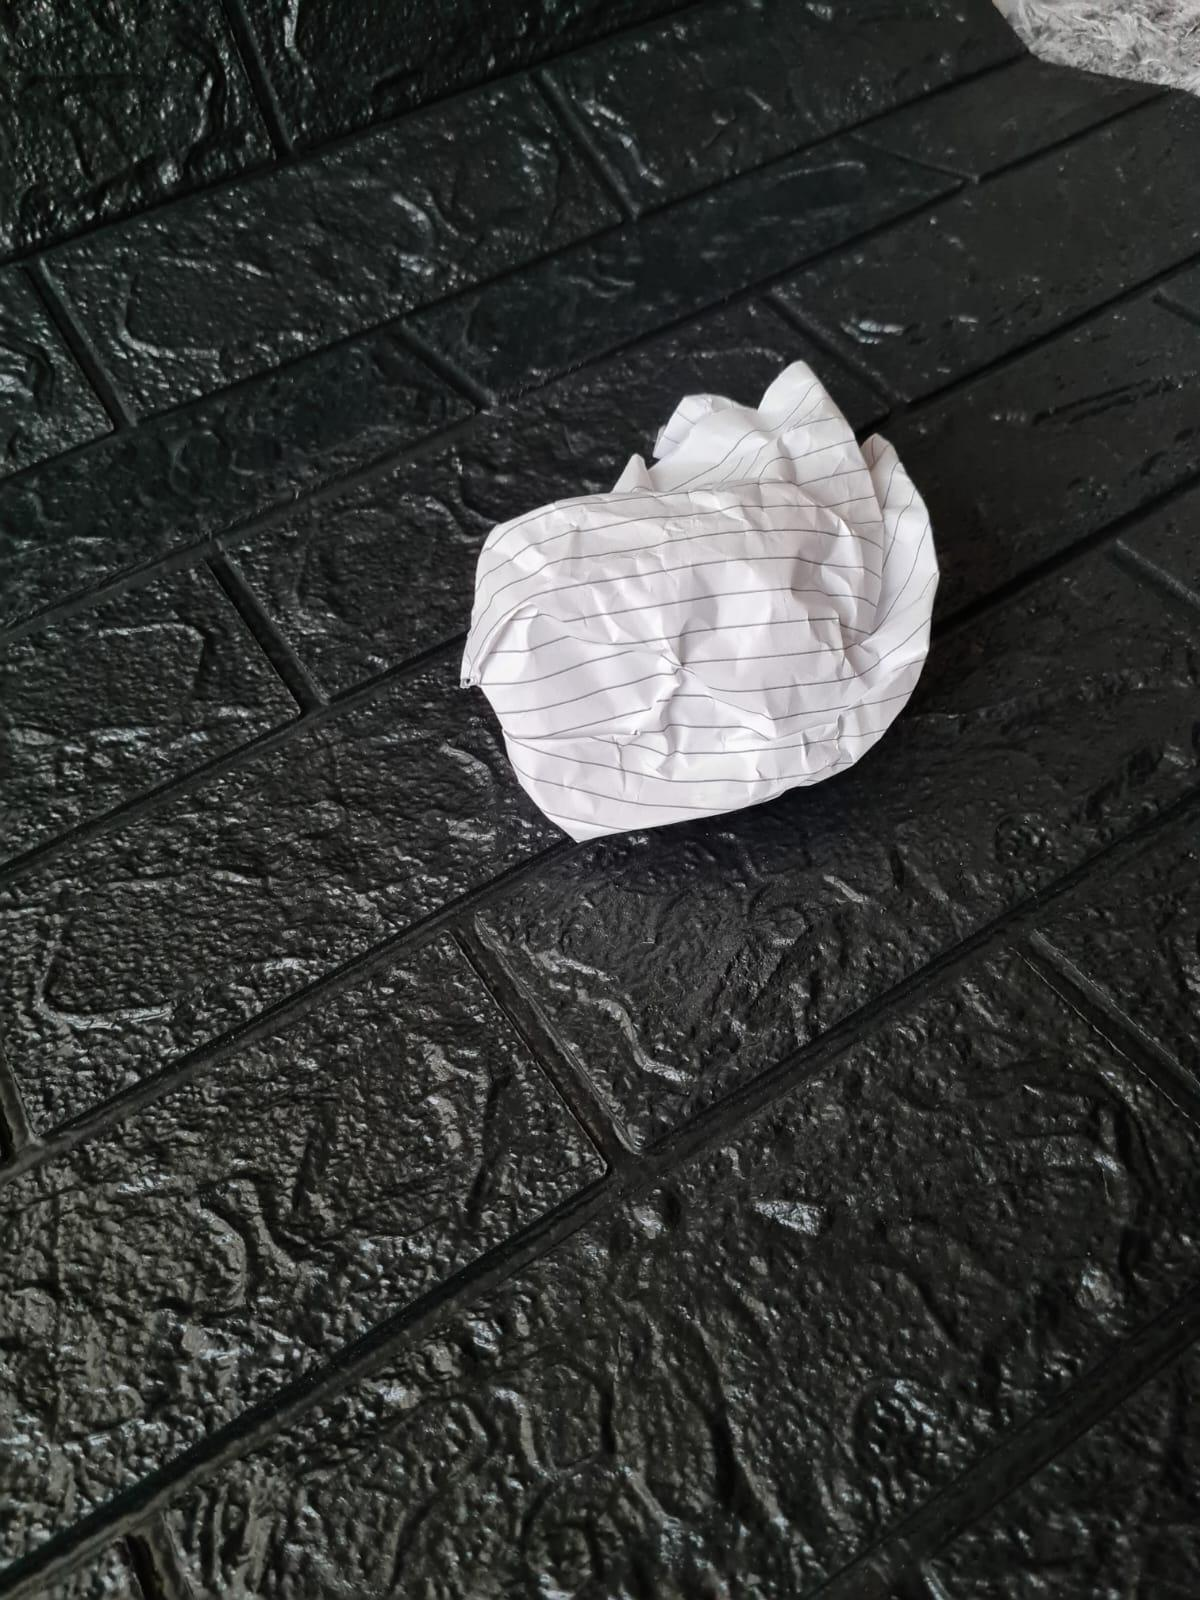Paper: (467, 367, 965, 847)
